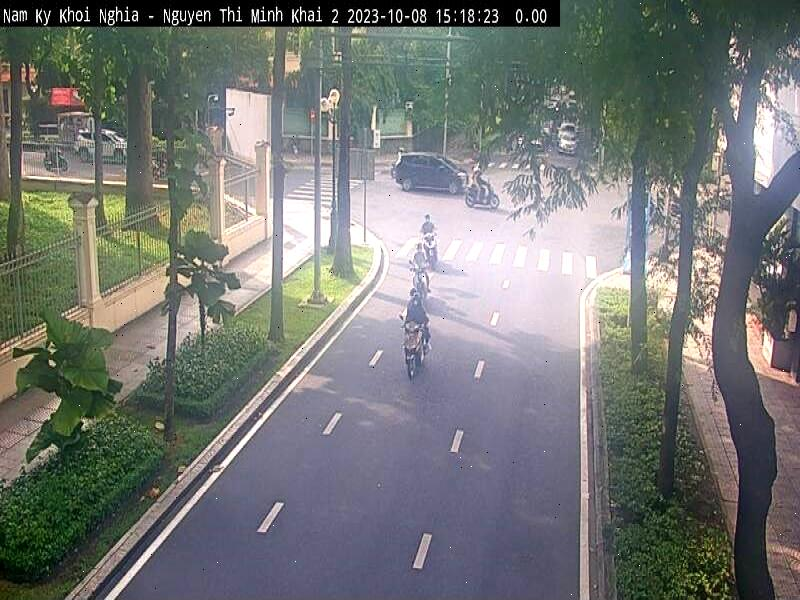car: (390, 143, 471, 197), (555, 121, 583, 162)
motorcycle: (403, 314, 430, 385), (406, 258, 436, 305), (464, 180, 506, 212), (417, 234, 439, 268)
